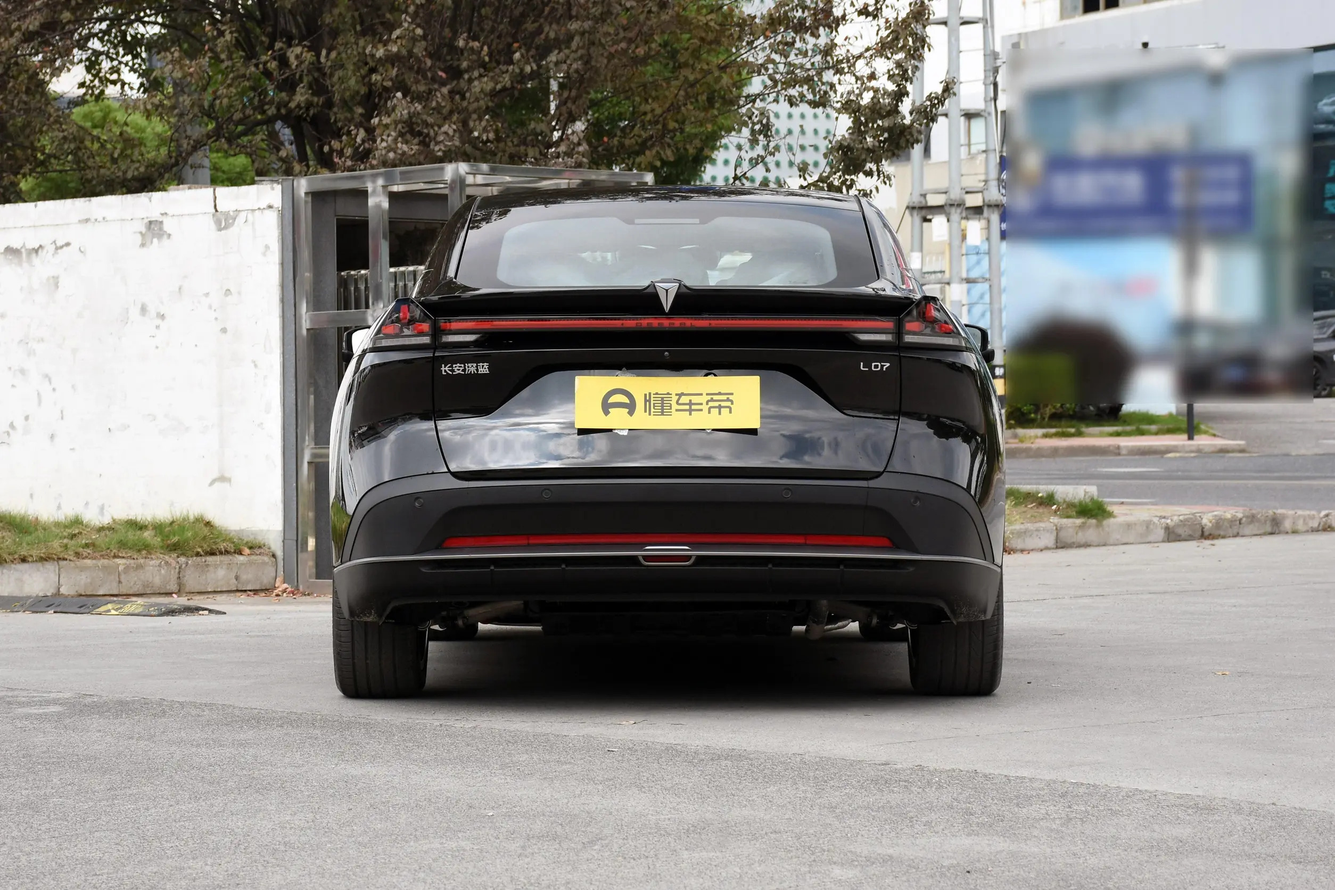Deepal: (655, 283, 679, 312)
